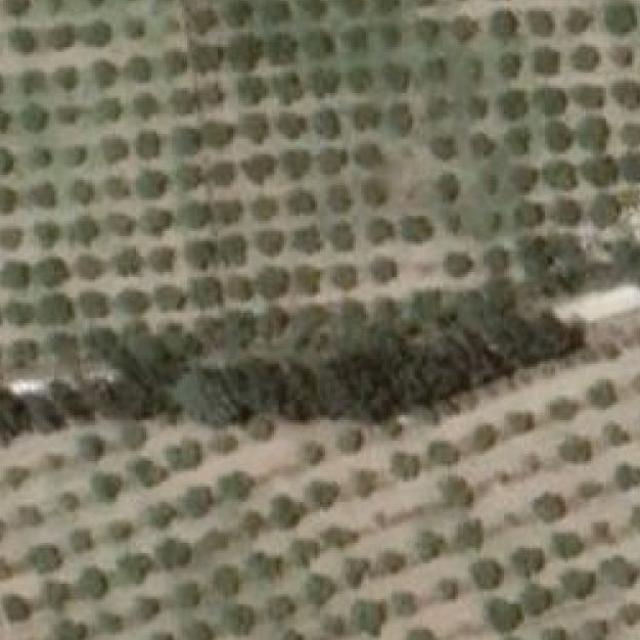Tree: (246, 548, 286, 584), (271, 494, 307, 530), (353, 599, 386, 638), (488, 597, 521, 633), (304, 574, 337, 610), (518, 238, 553, 271), (601, 556, 637, 587), (220, 604, 256, 635), (522, 582, 555, 615), (532, 492, 568, 522), (166, 439, 202, 469), (182, 487, 218, 517), (513, 546, 547, 577), (118, 553, 151, 584), (213, 563, 243, 597), (131, 459, 170, 485), (307, 480, 337, 513), (156, 538, 189, 568), (242, 412, 276, 441), (473, 558, 504, 589), (562, 571, 596, 599), (559, 433, 593, 461), (588, 377, 616, 411), (220, 469, 250, 500), (443, 477, 473, 507), (458, 520, 487, 551), (92, 473, 123, 502), (417, 531, 446, 561), (266, 594, 296, 623), (199, 531, 228, 561), (151, 497, 182, 525), (315, 108, 343, 139), (426, 441, 460, 466), (470, 422, 499, 451), (3, 594, 32, 623), (192, 277, 221, 306), (172, 579, 202, 607), (34, 543, 62, 573), (80, 434, 108, 464), (578, 119, 606, 149), (259, 267, 289, 295), (80, 568, 108, 597), (351, 103, 379, 132), (243, 154, 274, 180), (583, 157, 616, 181), (392, 451, 420, 479), (547, 398, 581, 421), (324, 526, 358, 549), (555, 531, 581, 561), (233, 37, 259, 67), (54, 617, 87, 640), (238, 509, 264, 538), (606, 4, 635, 30), (284, 149, 310, 178), (192, 8, 218, 37), (402, 216, 432, 241), (310, 71, 340, 96), (291, 538, 317, 566), (121, 423, 149, 449), (496, 91, 524, 117), (294, 264, 320, 292), (276, 73, 302, 101), (345, 556, 368, 587), (353, 469, 376, 500), (44, 581, 69, 609), (172, 129, 200, 154), (616, 463, 640, 492), (15, 505, 44, 529), (182, 619, 215, 640), (74, 216, 97, 246), (603, 420, 629, 446), (337, 428, 363, 454), (383, 62, 409, 88), (20, 103, 46, 129), (133, 597, 161, 621), (210, 430, 238, 454), (118, 290, 146, 314), (389, 103, 412, 132), (238, 78, 267, 101), (49, 25, 78, 48), (506, 413, 537, 434), (368, 219, 394, 244), (240, 117, 266, 142), (133, 93, 158, 119), (271, 34, 294, 62), (41, 297, 71, 318), (394, 592, 419, 617), (264, 0, 289, 25), (5, 466, 31, 490), (189, 241, 213, 267), (322, 147, 346, 173), (102, 137, 128, 161), (227, 0, 250, 27), (286, 193, 315, 214), (276, 113, 305, 134), (532, 47, 557, 71), (220, 239, 245, 263), (329, 224, 353, 249), (82, 292, 107, 316), (126, 57, 151, 81), (613, 81, 639, 104), (371, 257, 397, 280), (146, 211, 172, 234), (141, 173, 167, 196), (8, 27, 34, 50), (380, 551, 404, 575), (414, 21, 438, 45), (327, 188, 351, 212), (437, 175, 460, 200), (363, 180, 386, 205), (208, 163, 233, 186), (116, 252, 141, 275), (445, 255, 473, 275), (174, 165, 202, 185), (593, 522, 616, 546), (452, 16, 475, 40), (470, 132, 494, 155), (293, 226, 317, 249), (2, 262, 26, 285), (72, 183, 95, 207), (166, 50, 189, 74), (87, 21, 110, 45), (378, 418, 404, 439), (567, 11, 593, 32), (552, 200, 578, 221), (228, 277, 254, 298), (95, 60, 116, 86), (302, 441, 325, 464), (539, 88, 562, 111), (307, 32, 330, 55), (573, 47, 598, 68), (358, 147, 383, 168), (172, 93, 197, 114), (202, 126, 231, 144), (107, 178, 133, 198), (583, 619, 607, 640), (325, 614, 346, 638), (109, 520, 133, 541), (427, 60, 448, 84), (426, 98, 450, 119), (468, 96, 489, 120), (99, 98, 123, 119), (72, 528, 92, 553), (547, 165, 572, 185), (77, 257, 102, 277), (138, 132, 158, 157), (529, 11, 552, 32), (619, 154, 640, 177), (258, 231, 281, 252), (335, 265, 356, 288), (217, 200, 240, 221), (181, 203, 204, 224), (494, 11, 514, 35), (431, 137, 455, 157), (489, 249, 509, 273), (342, 30, 366, 50), (406, 626, 440, 640), (596, 198, 614, 224), (5, 303, 31, 321), (542, 624, 571, 640), (297, 0, 326, 16), (547, 124, 567, 147), (38, 262, 61, 282), (99, 611, 123, 630), (516, 205, 540, 224), (196, 49, 220, 68), (158, 289, 182, 308), (578, 88, 603, 106), (601, 338, 622, 359), (0, 228, 21, 249), (56, 67, 77, 88), (611, 45, 632, 65), (36, 185, 56, 206), (622, 602, 640, 625), (39, 224, 57, 247), (581, 482, 601, 502), (348, 71, 368, 91), (6, 0, 31, 16), (153, 251, 174, 270), (0, 187, 17, 210), (58, 106, 82, 122), (506, 129, 525, 149), (34, 146, 54, 165), (61, 492, 82, 510), (514, 170, 535, 188), (112, 216, 133, 234), (23, 73, 44, 91), (440, 579, 458, 599), (484, 175, 502, 195), (622, 125, 640, 144), (256, 200, 274, 219), (66, 147, 87, 163), (0, 556, 14, 579), (504, 55, 519, 76), (468, 57, 484, 76), (44, 454, 64, 469), (279, 630, 308, 640), (128, 21, 146, 37), (0, 149, 14, 169), (0, 108, 11, 132), (344, 0, 364, 13), (381, 0, 400, 11), (632, 507, 640, 533), (0, 517, 8, 541), (90, 0, 105, 9), (49, 0, 64, 9)
